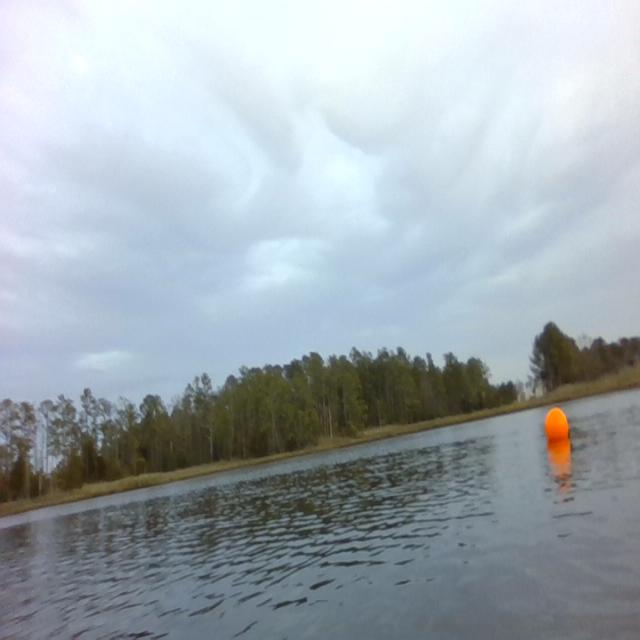Buoy: (544, 405, 572, 446)
